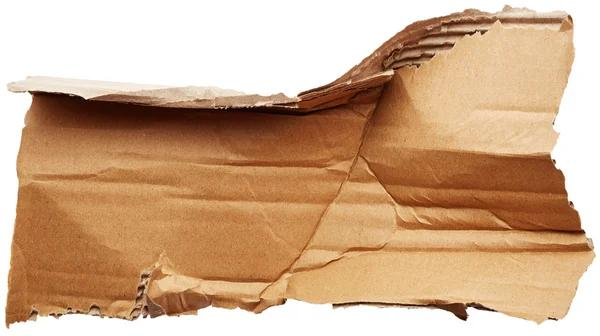plastic: (4, 8, 593, 324)
